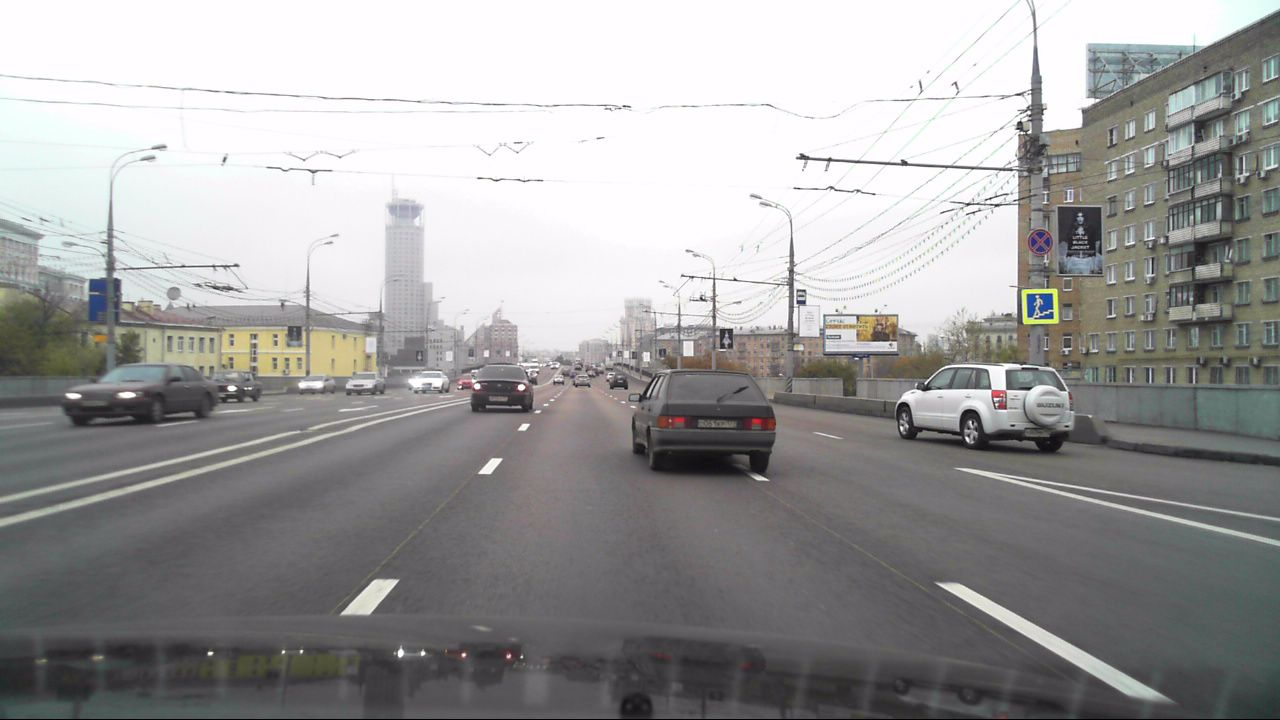No Parking: (1027, 229, 1055, 256)
